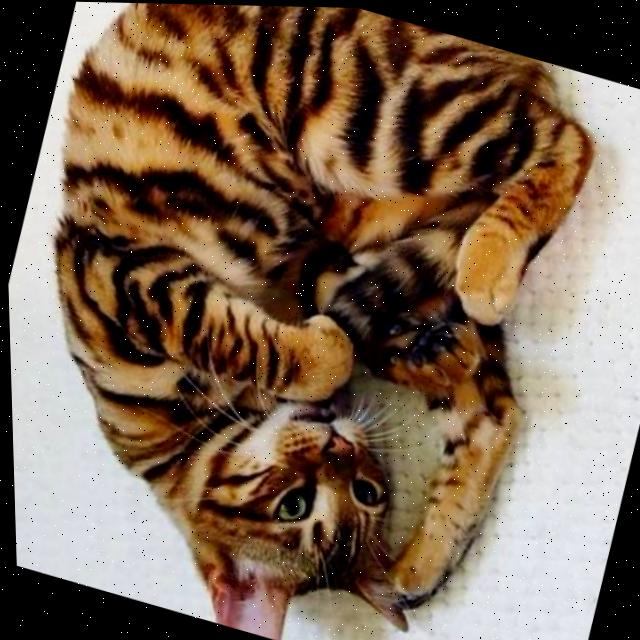Toyger: (0, 0, 628, 640)
